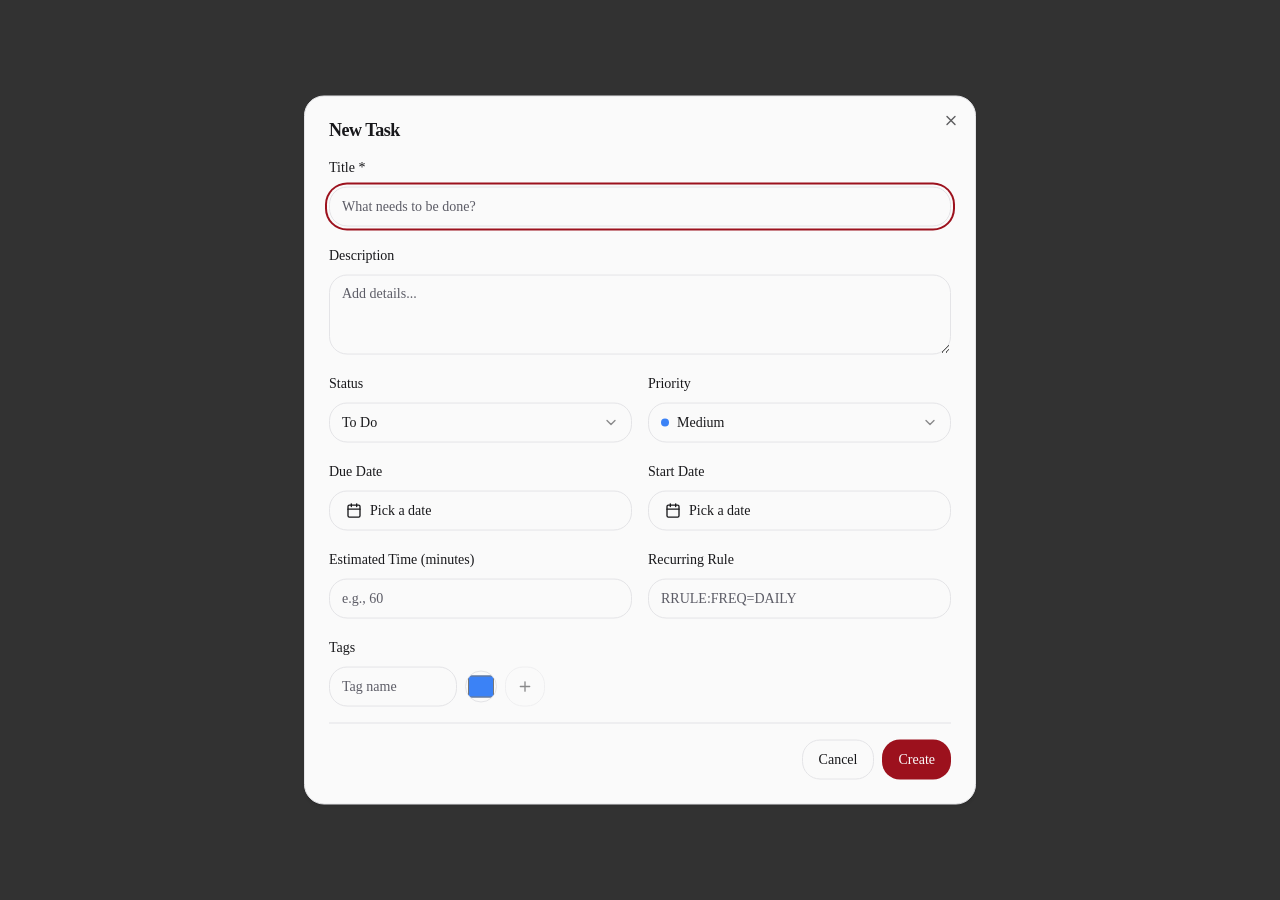
Test: TaskDialog › validates required title field
Click the button "Create" at {"x": 917, "y": 760}, box left=882, top=740, right=951, bottom=780
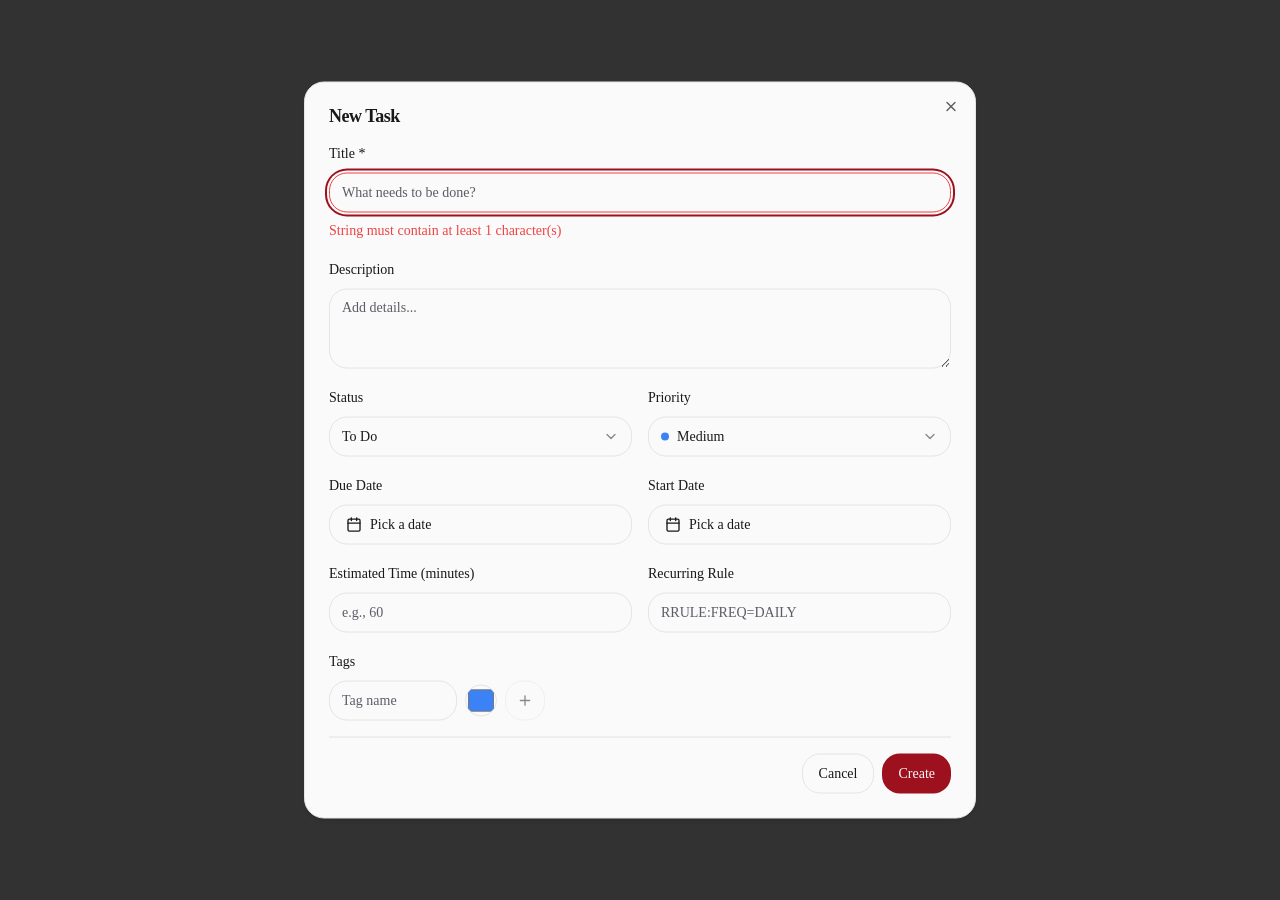
Expected: the text "String must contain at least 1 character(s)" is shown, left=329, top=222, right=562, bottom=238
